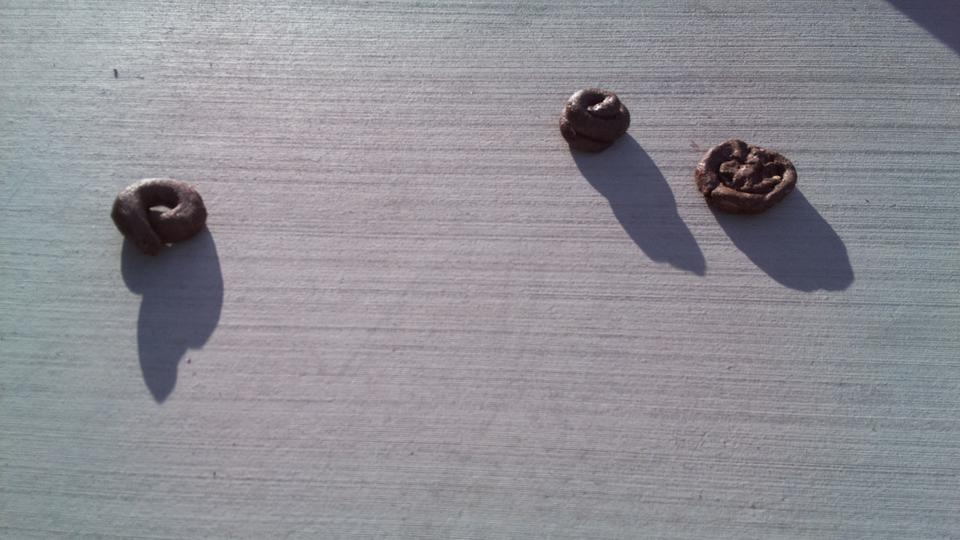poop: (688, 133, 803, 222), (106, 172, 213, 261), (552, 81, 634, 159)
